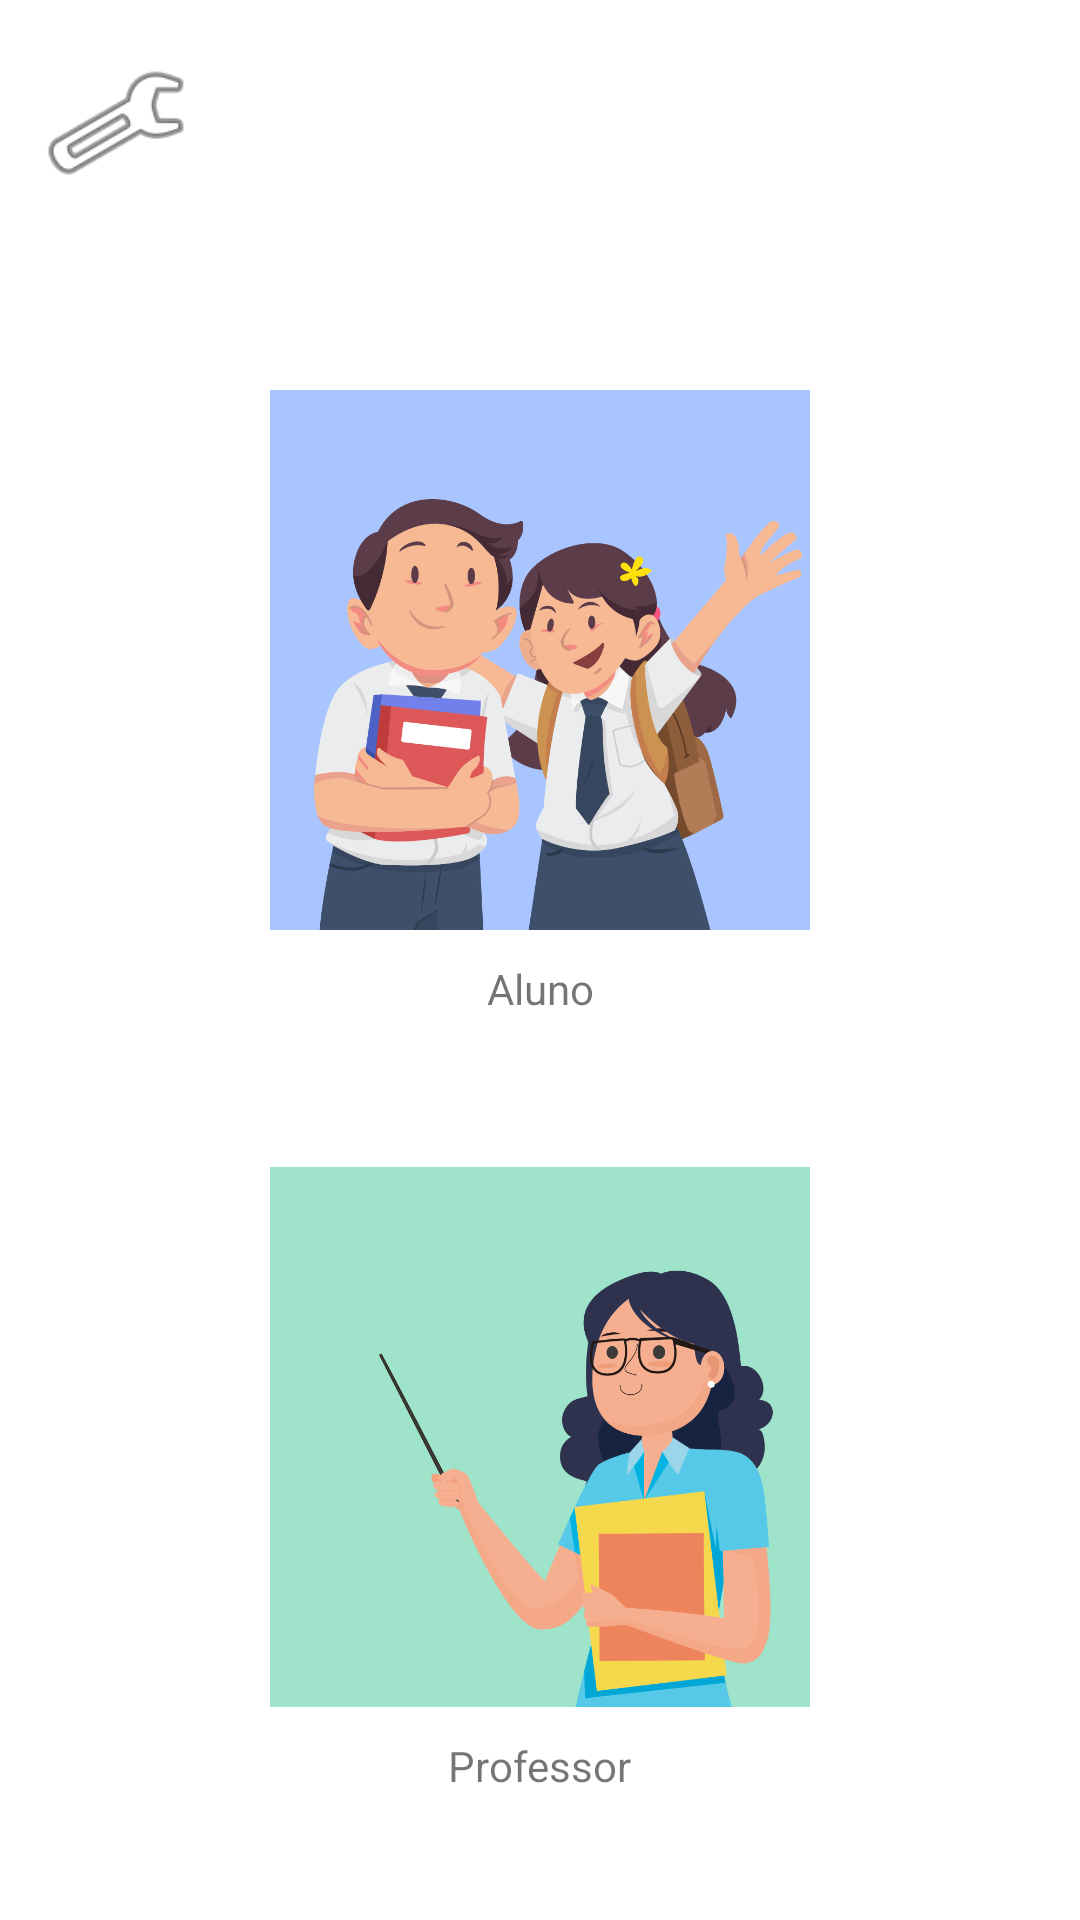

Where to tap for icons on this 1080px x 1920px app screen, as point (x, y):
manage: point (116, 123)
